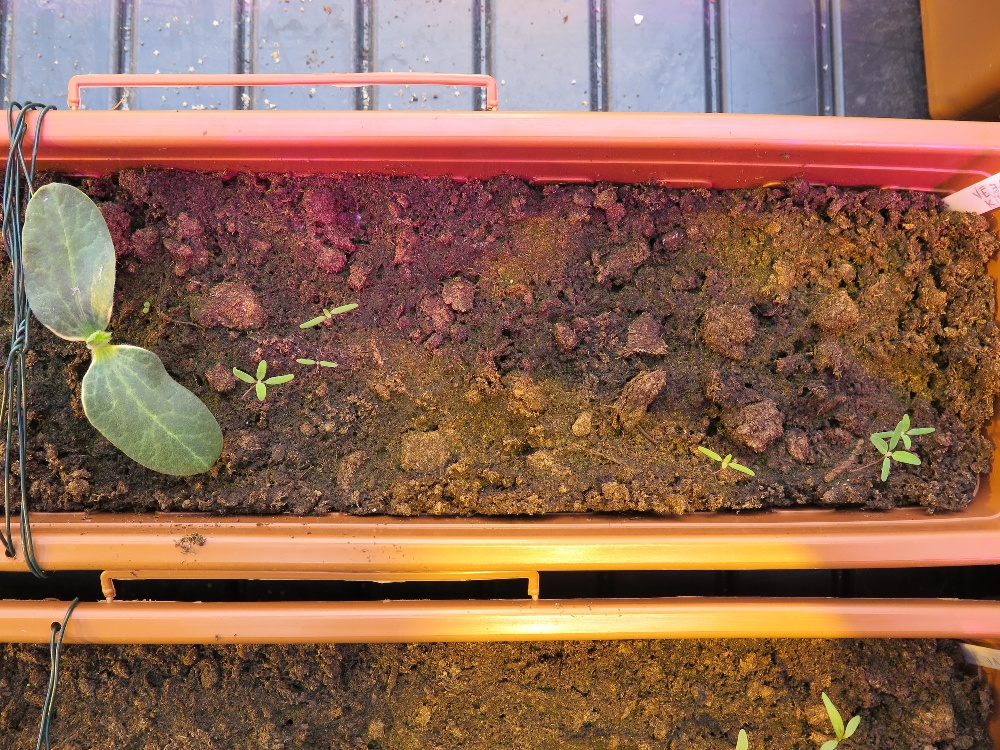crop: (23, 174, 234, 483)
weed: (850, 401, 939, 488), (798, 670, 875, 750), (225, 358, 302, 415), (300, 301, 384, 351), (684, 429, 748, 474), (293, 333, 350, 379), (721, 717, 773, 750)
